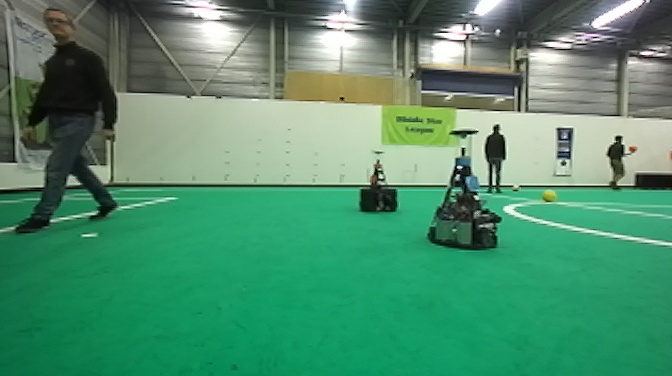ball: (541, 185, 557, 204), (510, 182, 521, 192), (627, 144, 637, 155)
human: (13, 1, 119, 236), (480, 122, 509, 194), (605, 132, 636, 191)
robot: (425, 129, 503, 253), (358, 150, 399, 214)
